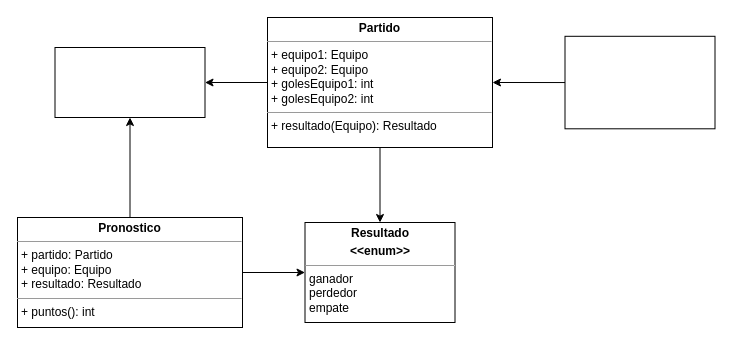
Some shapes in this 733 by 345 pixel diagram are drawn without their labels. Each missing label, with the centre of its shape:
"Equipo + nombre: String + descripcion: String" belongs at (x=129, y=82).
"Ronda + numero: String + partidos: Partido[] + puntos(): int" belongs at (x=639, y=82).
